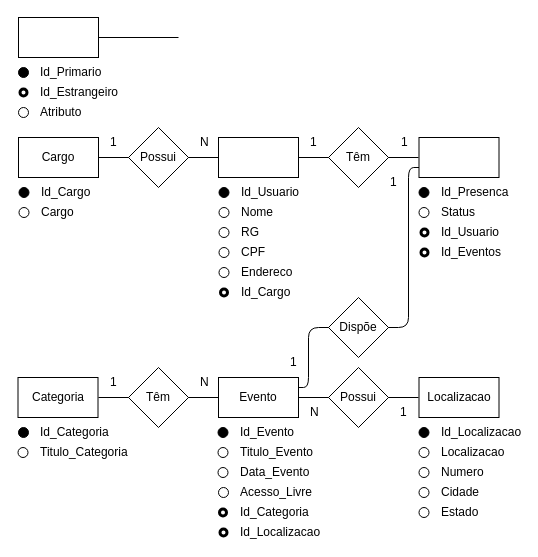
Some shapes in this 538 by 557 pixel diagram are drawn without their labels. Each missing label, with the centre of its shape:
"Presenca" goes at pixel 458 157.
"Usuario" goes at pixel 258 157.
